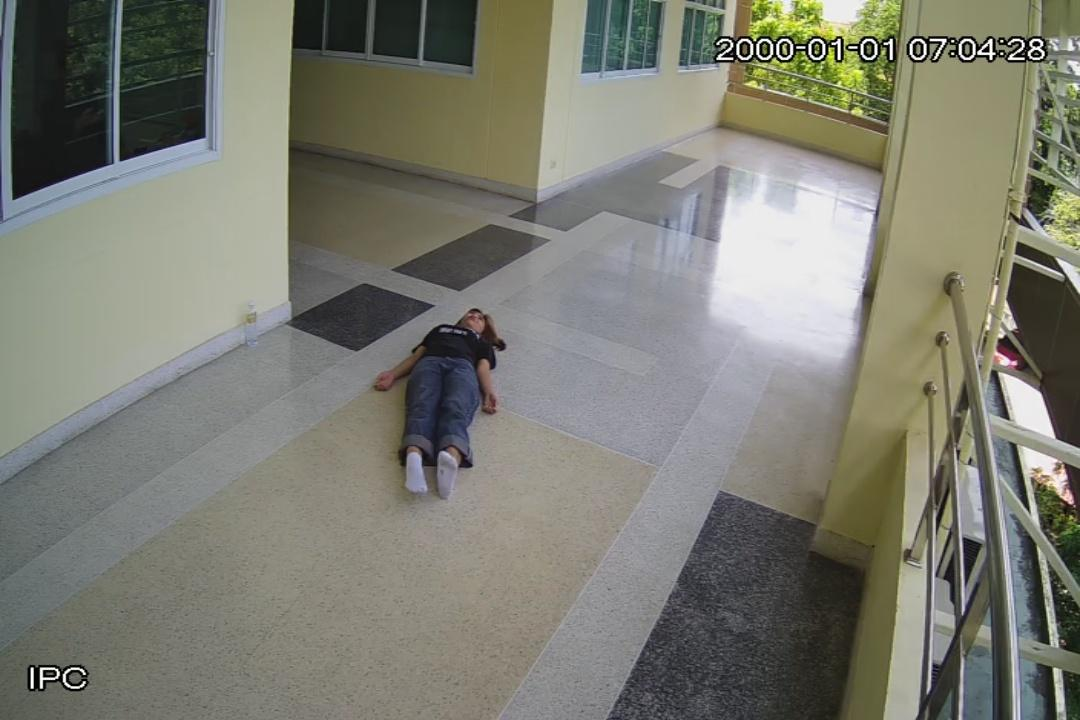fall: (376, 308, 502, 496)
